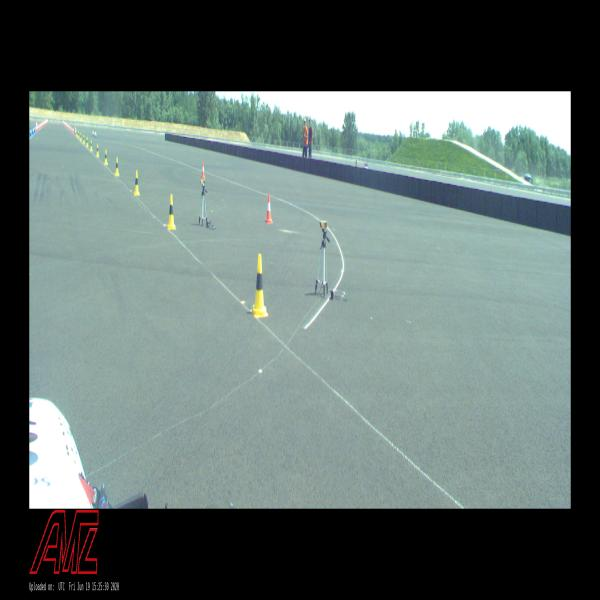blue_cone: (32, 126, 34, 134), (30, 128, 32, 136)
large_orange_cone: (74, 125, 76, 136)
orange_cone: (265, 194, 273, 223), (201, 162, 205, 178)
yellow_cone: (252, 254, 268, 317), (167, 194, 176, 229), (134, 170, 140, 195), (114, 158, 120, 175), (104, 150, 108, 164), (96, 144, 99, 157), (86, 137, 89, 147), (90, 140, 92, 151), (83, 134, 85, 144), (80, 133, 82, 141), (78, 131, 80, 138)
